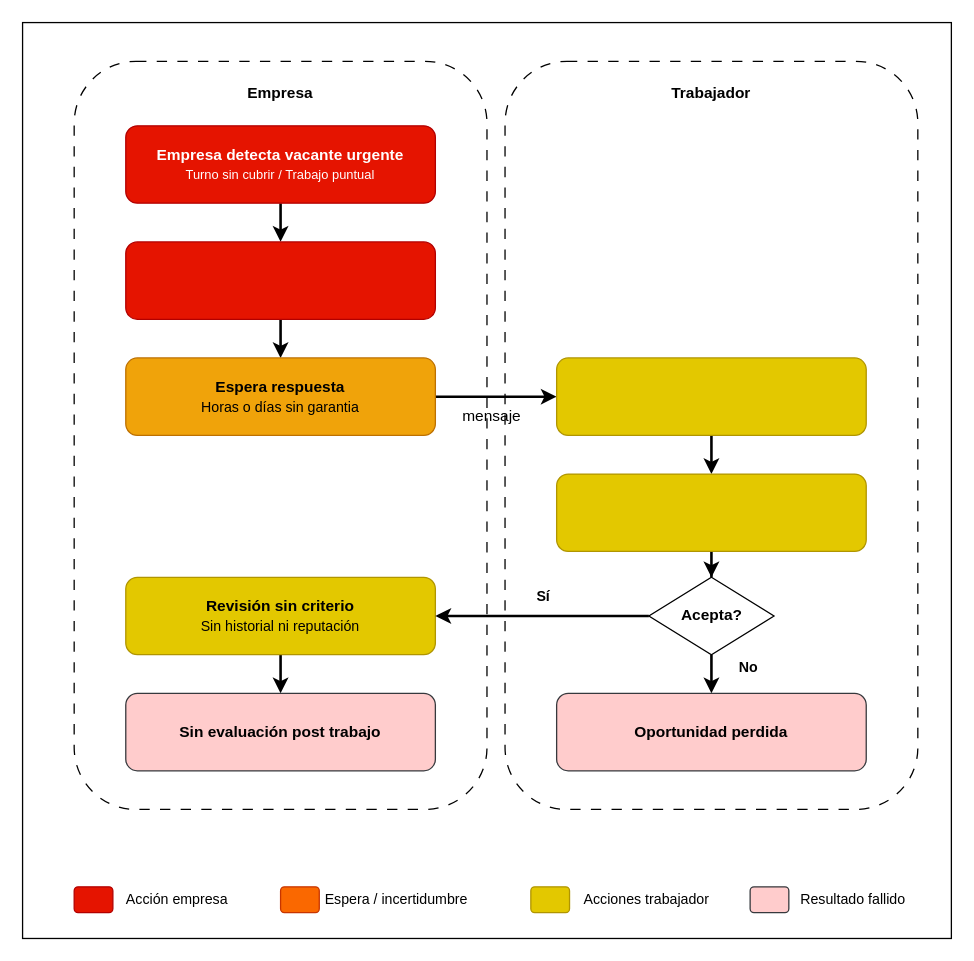
The diagram is 974 pixels wide and 961 high, and some of its shapes have lost their labels. The centre of each missing label's shape, as x and y in pixels:
"Contacto manual WhatsApp, llamadas, redes sociales" goes at pixel 279 280.
"Evalua Manualmente Sin información completa" goes at pixel 710 512.
"Recive aviso informal Sin información completa" goes at pixel 710 396.
